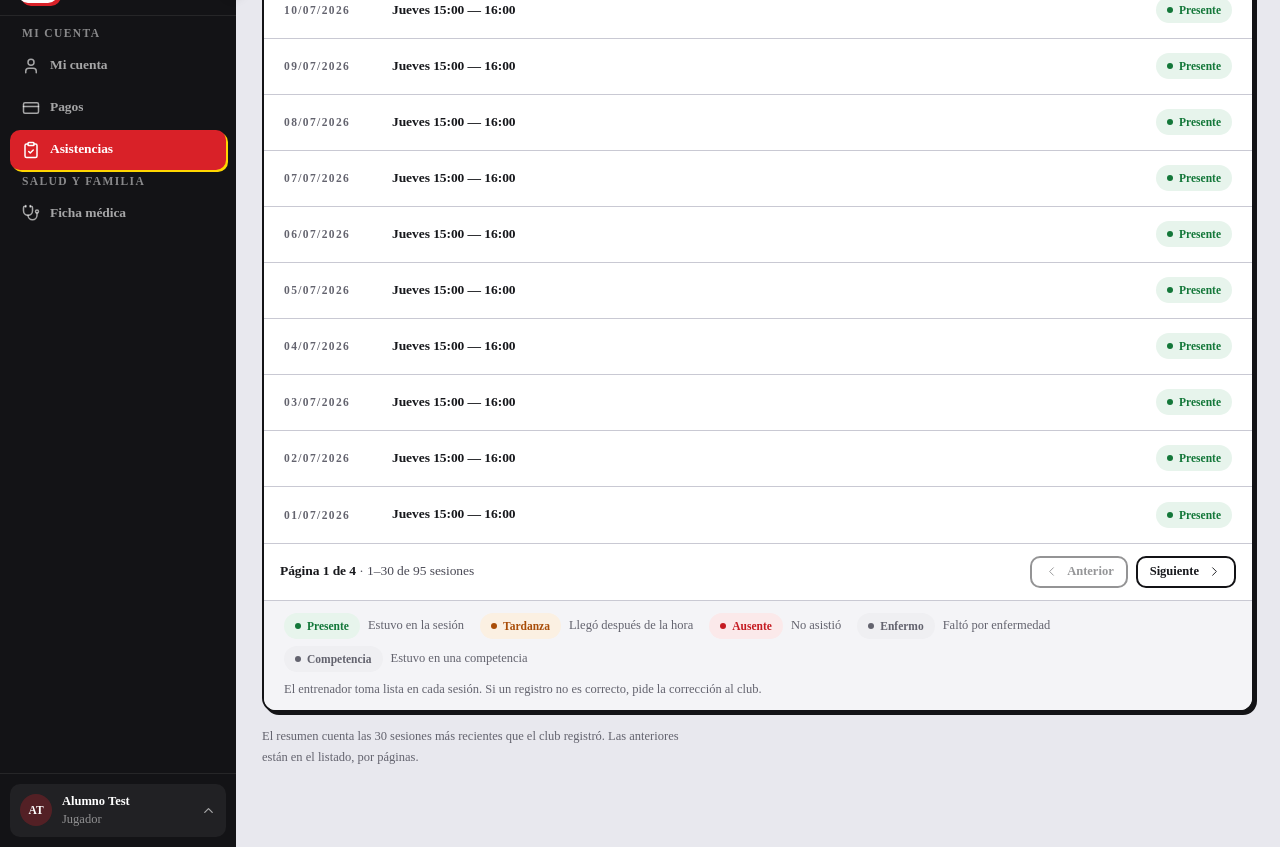
it: StudentAttendancePage — older sessions › requests the next page for this persona and shows its sessions instead of the first
(page scrolled)
expect the text "Página 1 de 4" is shown: met, box [280,564,356,578]
Click the button with aria-label "Página siguiente": click(1186, 572) [1136,556,1236,588]
(page scrolled)
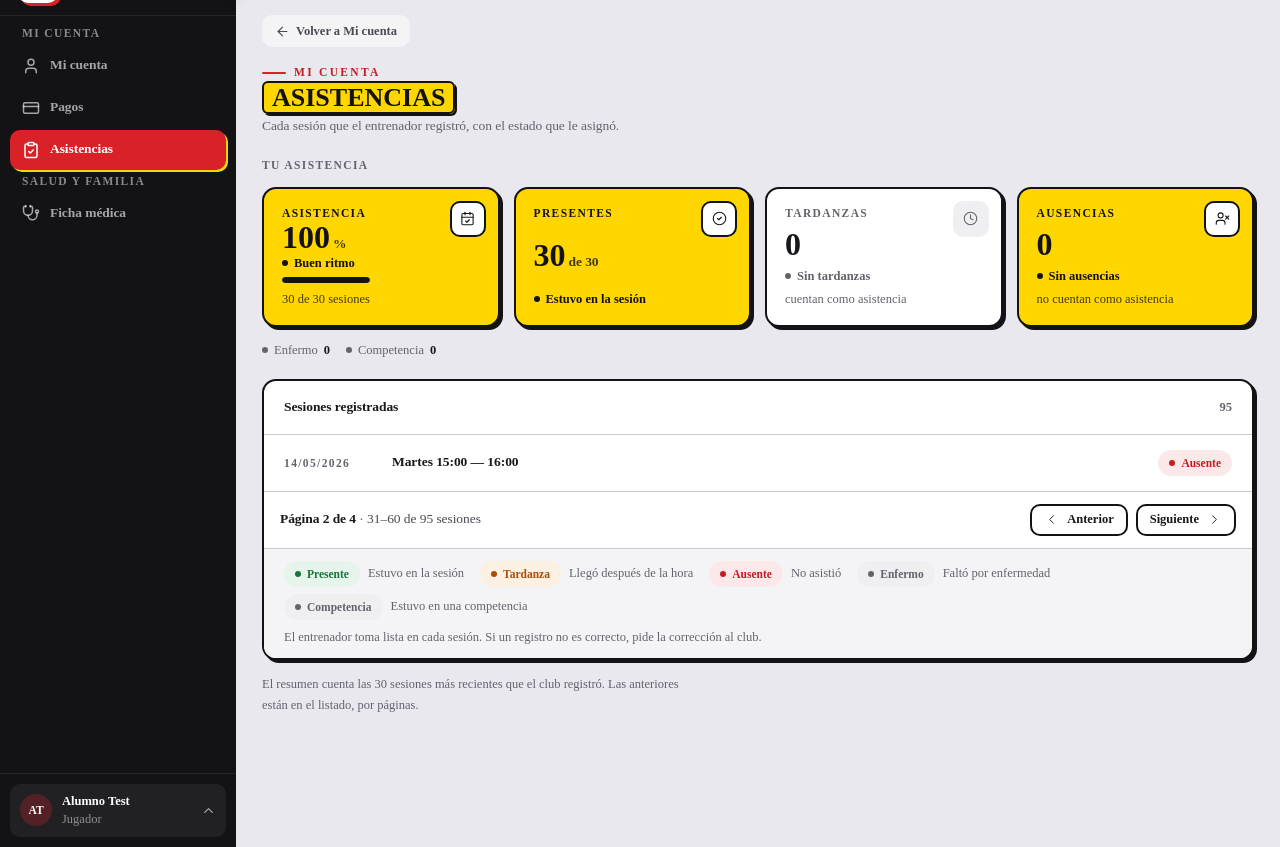
expect the text "14/05/2026" is shown: met, box [284,456,350,468]
expect the text "Página 2 de 4" is shown: met, box [280,512,356,526]
